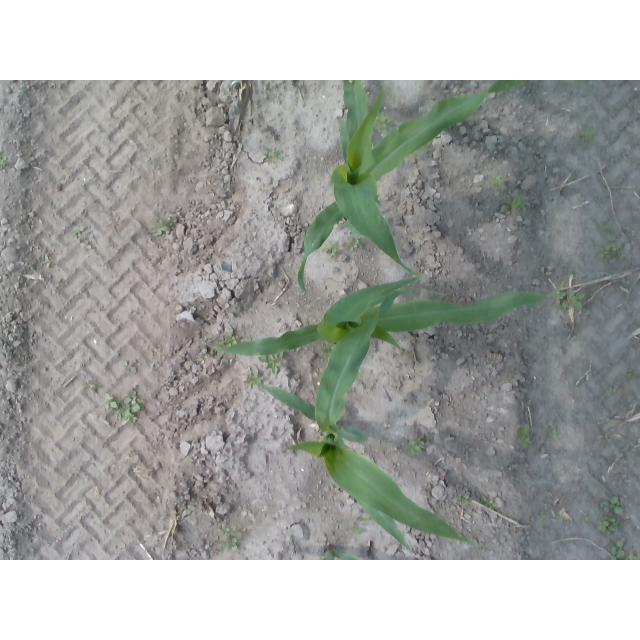Maize: (266, 291, 465, 554), (298, 80, 522, 294), (198, 278, 567, 355), (320, 545, 362, 560)
Weeds: (123, 391, 146, 417), (259, 354, 286, 374), (564, 288, 587, 308), (518, 425, 535, 446), (604, 498, 625, 515), (601, 242, 623, 258), (244, 370, 264, 387), (407, 436, 426, 453), (596, 517, 616, 533), (547, 287, 566, 303), (611, 540, 626, 560), (103, 394, 120, 411), (347, 518, 365, 534), (265, 148, 284, 162), (376, 115, 393, 128), (220, 536, 238, 548), (493, 175, 507, 190), (155, 221, 169, 236), (321, 242, 336, 255), (579, 128, 595, 140), (347, 240, 363, 252), (123, 360, 137, 373), (510, 198, 524, 210), (219, 336, 237, 345), (72, 226, 86, 237), (627, 368, 638, 379), (80, 237, 91, 248), (218, 526, 231, 535), (86, 384, 98, 393), (537, 512, 548, 521), (485, 498, 496, 507), (0, 154, 8, 166), (549, 430, 559, 439), (610, 385, 619, 392)
